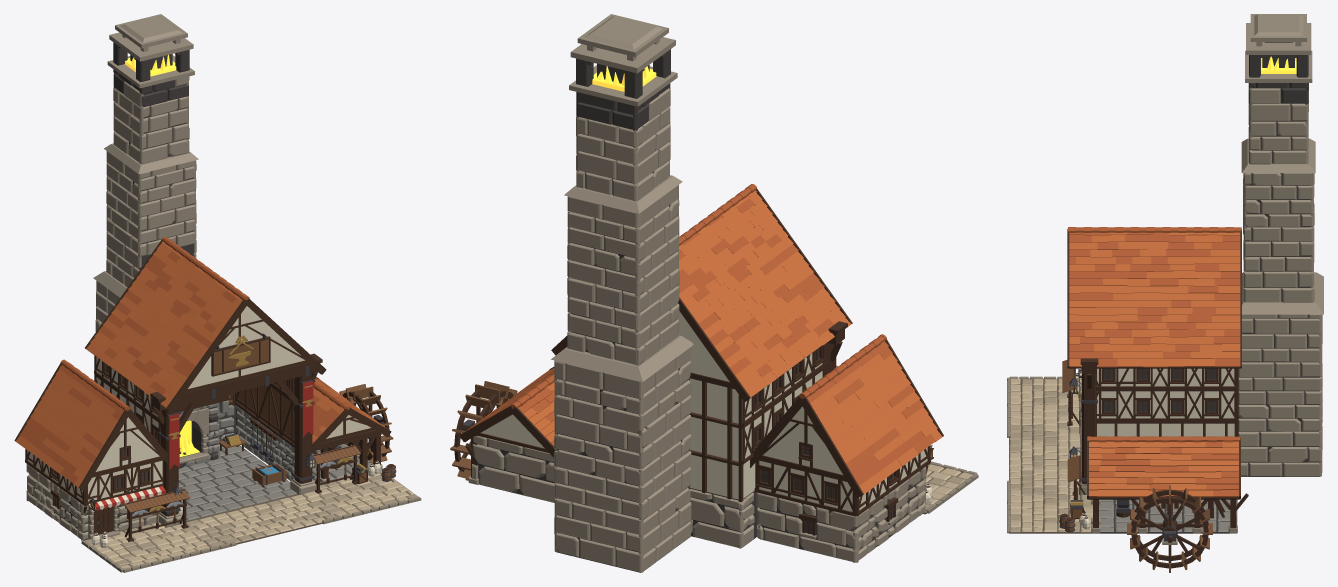
File: LOBBY_VM_04_FORGE_6c3d02.fbx
The picture shows the model from 3 angles, left to right: view 1: azimuth 30°, elevation 25°; view 2: azimuth 150°, elevation 25°; view 3: azimuth 270°, elevation 25°; orthographic projection. The views are drawn at different scales.
Visible parts, largest first — view 1: VM_Frg_Hall__Stone_VM_Warm, VM_Frg_Hall__Wood_VM_Timber, VM_Frg_Hall__Roof_VM_Terracotta, VM_Frg_Hall__Roof_VM_Terracotta_B, VM_Frg_Props__Stone_Paving_VM_Cob, VM_Frg_Hall__Plaster_VM_Cream, VM_Frg_Props__Stone_VM_Grey, VM_Frg_Hall__Stone_VM_Mortar, VM_Frg_Props__Stone_Paving_VM_CobB, VM_Frg_Props__Wood_VM_Plank, VM_Frg_Hall__Stone_VM_Grey, VM_Frg_Props__Wood_VM_Timber (+11 smaller); view 2: VM_Frg_Hall__Stone_VM_Warm, VM_Frg_Hall__Roof_VM_Terracotta, VM_Frg_Hall__Wood_VM_Timber, VM_Frg_Hall__Plaster_VM_Cream, VM_Frg_Hall__Roof_VM_Terracotta_B, VM_Frg_Hall__Stone_VM_Mortar, VM_Frg_Wheel__Wood_VM_Plank, VM_Frg_Wheel__Wood_VM_Timber, VM_Frg_Props__Stone_Paving_VM_Cob; view 3: VM_Frg_Hall__Stone_VM_Warm, VM_Frg_Hall__Roof_VM_Terracotta, VM_Frg_Hall__Roof_VM_Terracotta_B, VM_Frg_Hall__Wood_VM_Timber, VM_Frg_Props__Stone_Paving_VM_Cob, VM_Frg_Hall__Stone_VM_Mortar, VM_Frg_Hall__Plaster_VM_Cream, VM_Frg_Props__Stone_Paving_VM_CobB, VM_Frg_Wheel__Wood_VM_Timber, VM_Frg_Props__Stone_VM_Grey, VM_Frg_Props__Stone_Paving_VM_Joint, VM_Frg_Wheel__Wood_VM_Plank (+4 smaller).
Boxes of the visible parts, x1,y1,x2,y2 form: VM_Frg_Hall__Stone_VM_Warm: (26,14,382,540); VM_Frg_Hall__Wood_VM_Timber: (14,239,391,535); VM_Frg_Hall__Roof_VM_Terracotta: (15,241,386,487); VM_Frg_Hall__Roof_VM_Terracotta_B: (20,236,372,483); VM_Frg_Props__Stone_Paving_VM_Cob: (92,469,413,568); VM_Frg_Hall__Plaster_VM_Cream: (27,306,370,501); VM_Frg_Props__Stone_VM_Grey: (178,444,372,520); VM_Frg_Hall__Stone_VM_Mortar: (30,42,294,539); VM_Frg_Props__Stone_Paving_VM_CobB: (85,475,418,565); VM_Frg_Props__Wood_VM_Plank: (90,339,395,532); VM_Frg_Hall__Stone_VM_Grey: (181,400,294,480); VM_Frg_Props__Wood_VM_Timber: (89,336,394,541); VM_Frg_Hall__Stone_VM_Warm: (460,14,926,572); VM_Frg_Hall__Roof_VM_Terracotta: (476,190,942,494); VM_Frg_Hall__Wood_VM_Timber: (459,189,943,535); VM_Frg_Hall__Plaster_VM_Cream: (481,311,927,511); VM_Frg_Hall__Roof_VM_Terracotta_B: (464,184,935,485); VM_Frg_Hall__Stone_VM_Mortar: (477,49,923,572); VM_Frg_Wheel__Wood_VM_Plank: (450,381,517,480); VM_Frg_Wheel__Wood_VM_Timber: (454,390,513,471); VM_Frg_Props__Stone_Paving_VM_Cob: (924,464,972,504); VM_Frg_Hall__Stone_VM_Warm: (1079,14,1323,544); VM_Frg_Hall__Roof_VM_Terracotta: (1069,232,1240,497); VM_Frg_Hall__Roof_VM_Terracotta_B: (1068,227,1241,497); VM_Frg_Hall__Wood_VM_Timber: (1067,228,1248,528); VM_Frg_Props__Stone_Paving_VM_Cob: (1009,378,1092,532); VM_Frg_Hall__Stone_VM_Mortar: (1104,42,1319,476); VM_Frg_Hall__Plaster_VM_Cream: (1097,368,1234,436); VM_Frg_Props__Stone_Paving_VM_CobB: (1009,379,1092,532); VM_Frg_Wheel__Wood_VM_Timber: (1131,489,1208,568); VM_Frg_Props__Stone_VM_Grey: (1099,499,1230,532); VM_Frg_Props__Stone_Paving_VM_Joint: (1009,378,1095,533); VM_Frg_Wheel__Wood_VM_Plank: (1127,485,1212,572).
Size of the model in its own units: 77.83 by 93.7 by 58.26.
